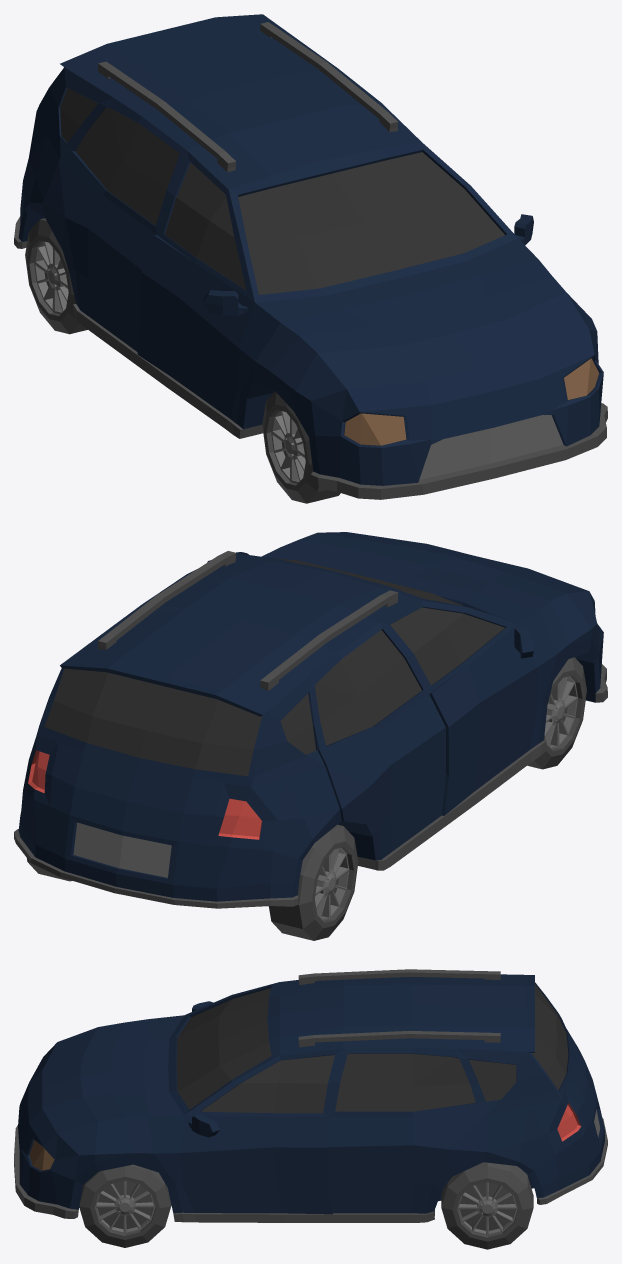
File: SUV.glb
3 views of the same model, one above another, from view 1: azimuth 30°, elevation 25°; view 2: azimuth 150°, elevation 25°; view 3: azimuth 270°, elevation 25° (orthographic). The views are drawn at different scales.
Visible parts, largest first — view 1: SUV_Cube-Mesh, SUV_Cube-Mesh_1, SUV_Cube-Mesh_2, SUV_Cube-Mesh_3, SUV_Cube-Mesh_4, SUV_FrontRightWheel_Cylinder005-Mesh_1, SUV_BackWheels_Cylinder009-Mesh, SUV_FrontRightWheel_Cylinder005-Mesh, SUV_BackWheels_Cylinder009-Mesh_1; view 2: SUV_Cube-Mesh, SUV_Cube-Mesh_1, SUV_Cube-Mesh_2, SUV_BackWheels_Cylinder009-Mesh, SUV_Cube-Mesh_3, SUV_Cube-Mesh_5, SUV_FrontRightWheel_Cylinder005-Mesh_1, SUV_BackWheels_Cylinder009-Mesh_1, SUV_FrontRightWheel_Cylinder005-Mesh; view 3: SUV_Cube-Mesh, SUV_Cube-Mesh_1, SUV_Cube-Mesh_2, SUV_BackWheels_Cylinder009-Mesh, SUV_FrontLeftWheel_Cylinder010-Mesh_1, SUV_FrontLeftWheel_Cylinder010-Mesh, SUV_BackWheels_Cylinder009-Mesh_1, SUV_Cube-Mesh_5, SUV_Cube-Mesh_4.
Boxes of the visible parts, x1,y1,x2,y2 form: SUV_Cube-Mesh: (18,14,603,485); SUV_Cube-Mesh_1: (60,88,504,294); SUV_Cube-Mesh_2: (14,22,607,499); SUV_Cube-Mesh_3: (419,415,563,479); SUV_Cube-Mesh_4: (344,358,598,445); SUV_FrontRightWheel_Cylinder005-Mesh_1: (262,391,340,503); SUV_BackWheels_Cylinder009-Mesh: (25,218,87,334); SUV_FrontRightWheel_Cylinder005-Mesh: (271,410,305,483); SUV_BackWheels_Cylinder009-Mesh_1: (34,241,68,314); SUV_Cube-Mesh: (18,532,603,901); SUV_Cube-Mesh_1: (44,558,504,776); SUV_Cube-Mesh_2: (14,551,607,908); SUV_BackWheels_Cylinder009-Mesh: (27,824,358,940); SUV_Cube-Mesh_3: (73,822,171,877); SUV_Cube-Mesh_5: (28,750,262,839); SUV_FrontRightWheel_Cylinder005-Mesh_1: (527,657,586,769); SUV_BackWheels_Cylinder009-Mesh_1: (315,848,349,920); SUV_FrontRightWheel_Cylinder005-Mesh: (544,676,577,749); SUV_Cube-Mesh: (18,974,604,1214); SUV_Cube-Mesh_1: (176,984,568,1113); SUV_Cube-Mesh_2: (14,969,607,1222); SUV_BackWheels_Cylinder009-Mesh: (441,1162,533,1249); SUV_FrontLeftWheel_Cylinder010-Mesh_1: (79,1164,171,1247); SUV_FrontLeftWheel_Cylinder010-Mesh: (95,1180,155,1234); SUV_BackWheels_Cylinder009-Mesh_1: (457,1182,517,1235); SUV_Cube-Mesh_5: (557,1103,581,1141); SUV_Cube-Mesh_4: (29,1140,54,1170).
Size of the model in its own units: 2.11 by 1.53 by 4.21.
